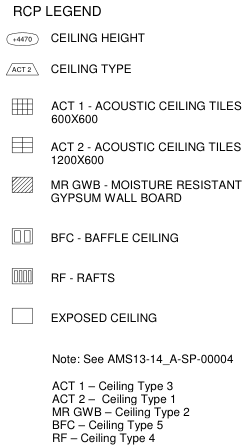hatch: (10, 96, 36, 117), (9, 226, 35, 247), (5, 31, 39, 47), (6, 62, 39, 77), (10, 175, 36, 194), (10, 136, 36, 154), (11, 306, 34, 326), (10, 267, 34, 285)
label: (50, 176, 242, 207), (50, 99, 242, 129), (50, 138, 241, 167), (47, 226, 188, 246), (48, 30, 151, 49), (47, 310, 162, 323), (50, 61, 135, 77), (46, 270, 119, 286)
